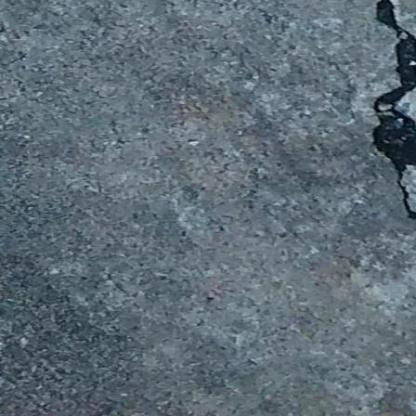Cracks: (362, 0, 416, 227)
